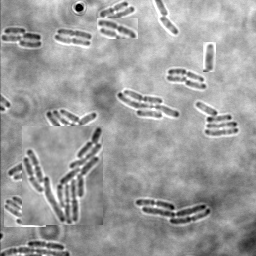Dividing: (97, 94, 128, 111), (167, 67, 204, 81), (99, 1, 128, 18), (54, 34, 90, 47), (56, 28, 92, 39), (27, 239, 64, 249)
Microcolony: (52, 88, 212, 160), (135, 199, 211, 224), (1, 27, 42, 48)
Rod: (106, 5, 135, 23), (157, 16, 178, 34), (166, 73, 187, 82)
